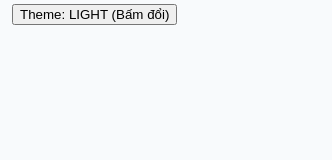
Test: 15 React Hooks + TypeScript Concise Demos › 04. useContext: đọc và đổi theme qua Context
The width and height of the screenshot is (332, 160).
Click the button: (95, 14) [12,4,177,25]
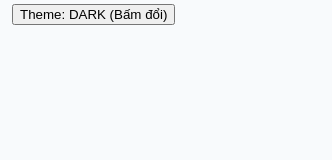
Check: the button reads "Theme: DARK (Bấm đổi)", box [12,4,175,25]
